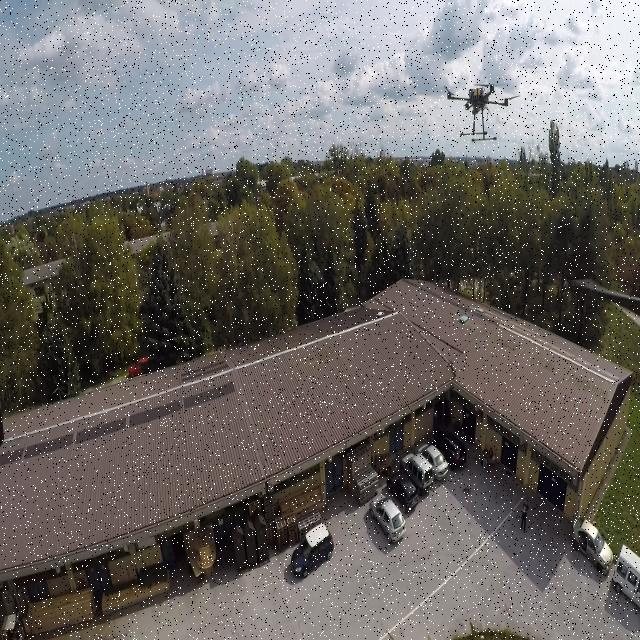UAV: (439, 75, 524, 149)
